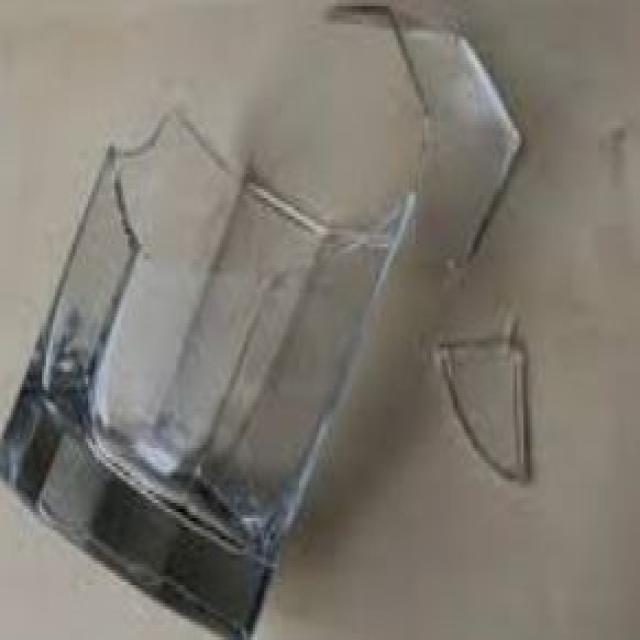electronic: (0, 106, 418, 640)
